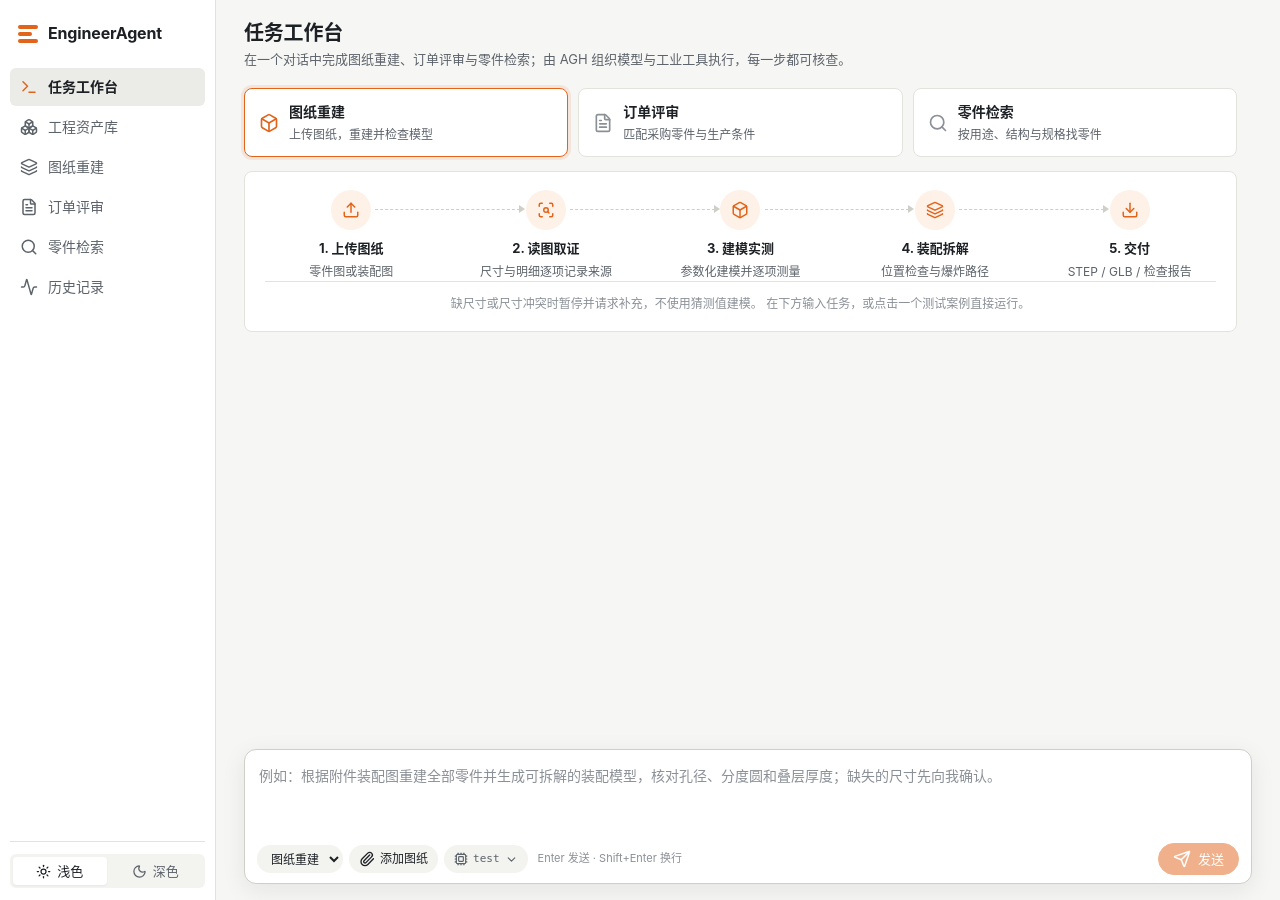
Scenario: replaces the CAD debug page with part search and labels settings plainly
expect the button "零件检索" is shown: met, box [10, 228, 205, 266]
Click the button with aria-label "选择模型：test": (486, 859) [444, 845, 528, 873]
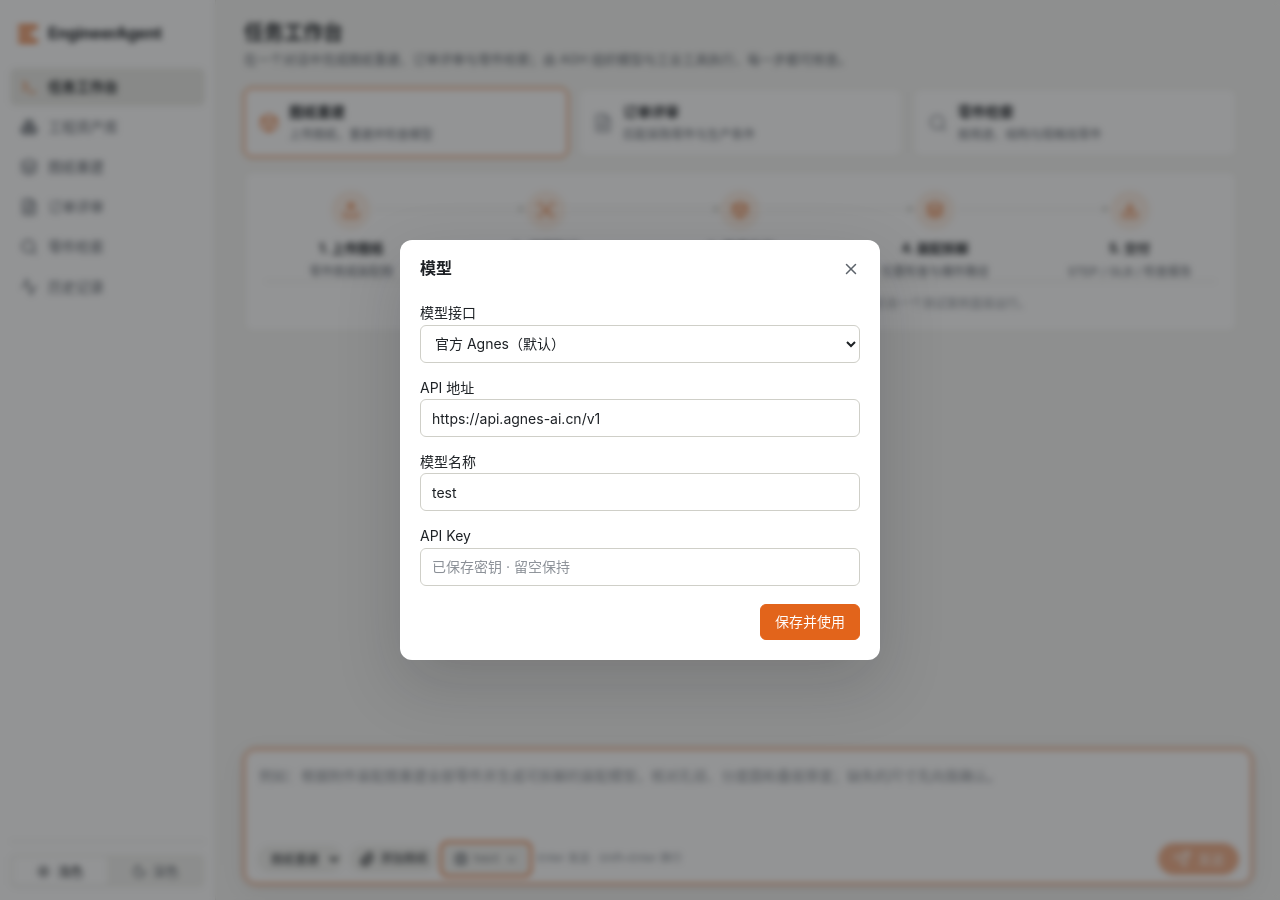
expect the dialog named "模型设置" is shown: met, box [400, 240, 880, 660]
